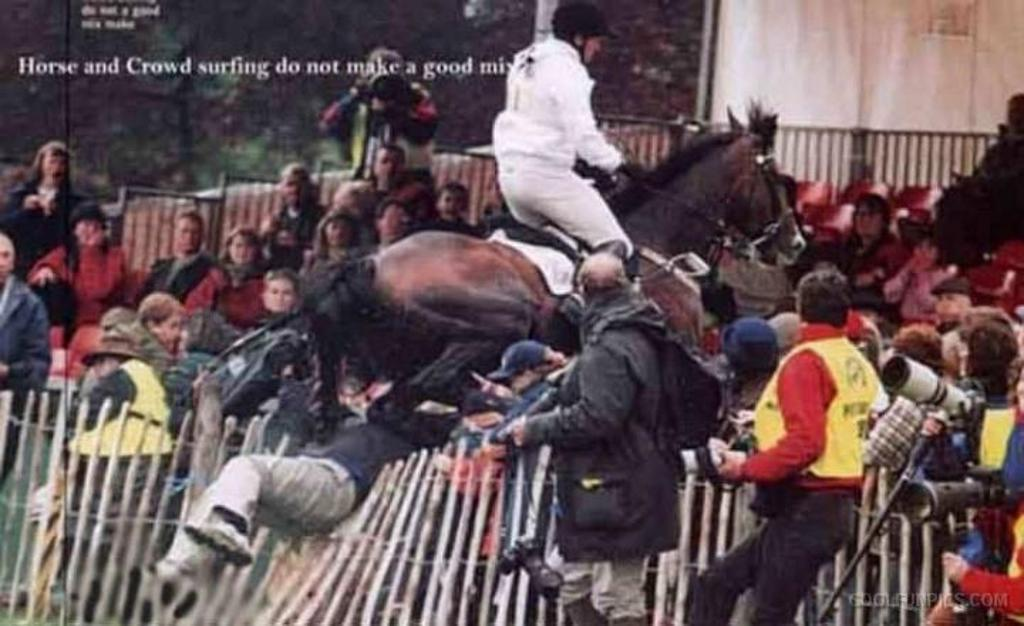face: (374, 70, 404, 104), (375, 152, 402, 184), (268, 282, 295, 313), (855, 204, 881, 236), (584, 29, 605, 66), (156, 316, 181, 346), (936, 292, 961, 322), (92, 353, 117, 382), (381, 213, 405, 241), (440, 191, 463, 220), (283, 179, 306, 207), (328, 218, 350, 247), (232, 237, 255, 264), (178, 224, 200, 251), (79, 221, 100, 248), (1, 242, 15, 280), (45, 156, 65, 181), (916, 244, 934, 268)
